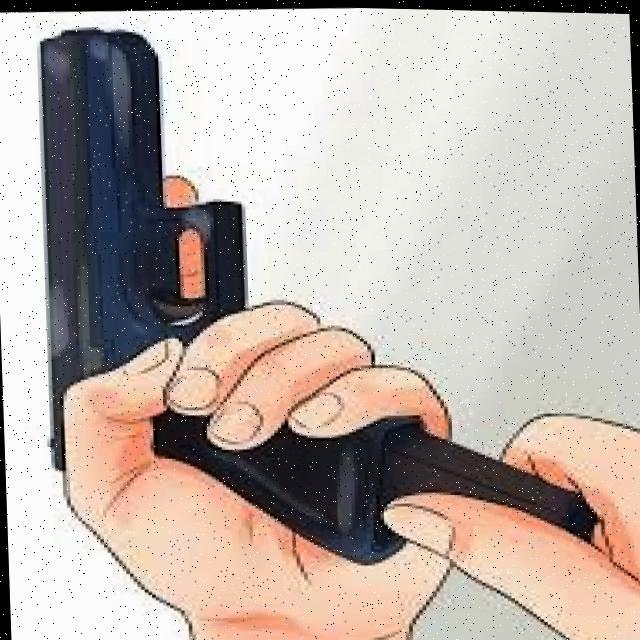pistol: (37, 19, 256, 475)
